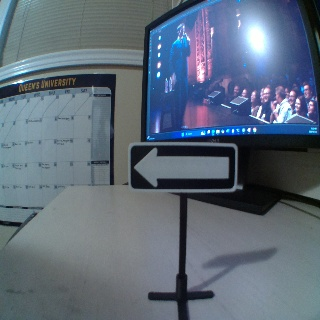sign_oneway_left: (127, 139, 236, 191)
